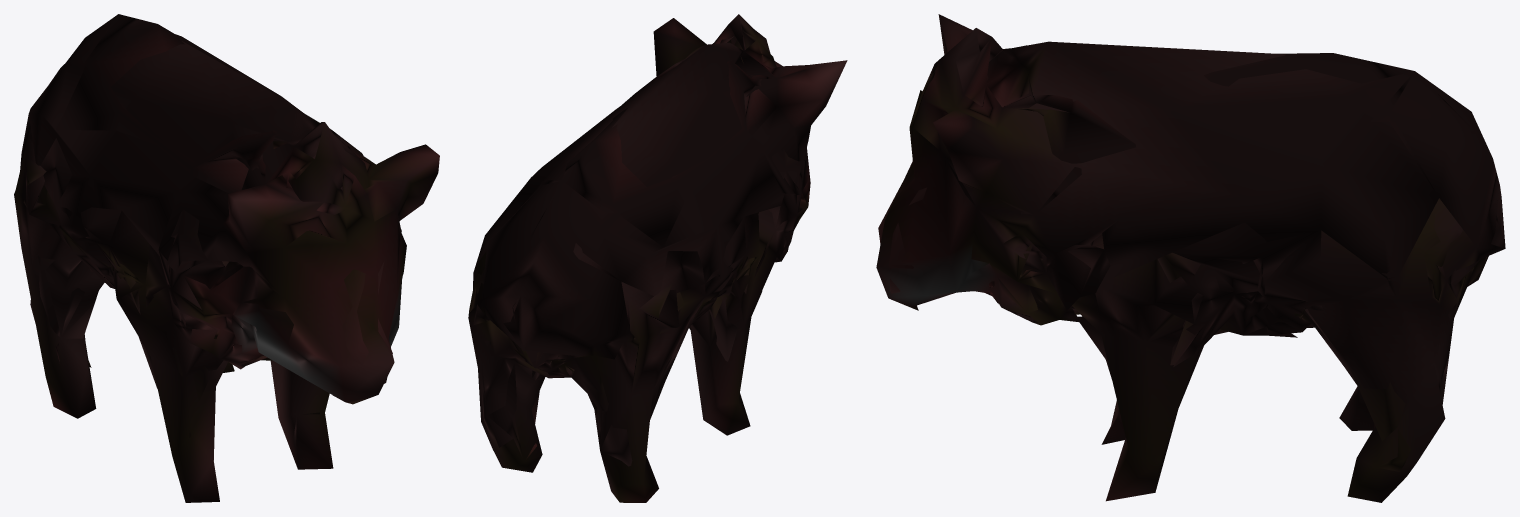
File: gen3d-wild-boar-lod0.glb
3 renders of one model, left to right at view 1: azimuth 30°, elevation 25°; view 2: azimuth 150°, elevation 25°; view 3: azimuth 270°, elevation 25°, orthographic. The views are drawn at different scales.
Visible parts, largest first — view 1: part_0; view 2: part_0; view 3: part_0.
Part boxes in pixels (<box>): part_0: <box>14,14,439,502</box>; part_0: <box>468,14,847,502</box>; part_0: <box>876,14,1505,502</box>.
Bounding box in the file's own units: 0.6075 × 1 × 1.29.
